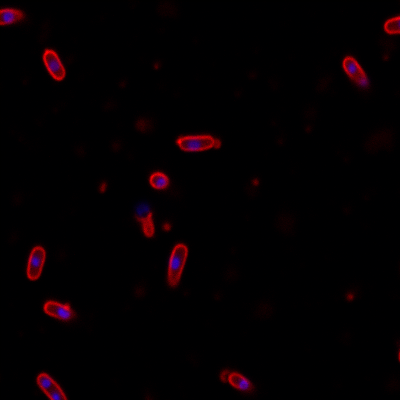CAM: (40, 49, 65, 81), (175, 133, 217, 152), (26, 244, 47, 280)
Oblique: (165, 243, 190, 289), (220, 368, 258, 395), (342, 55, 371, 89), (132, 200, 155, 239), (43, 300, 79, 321), (146, 172, 170, 190)
Vesicle: (158, 220, 173, 234), (343, 290, 356, 303), (97, 180, 109, 193), (250, 175, 261, 188), (150, 60, 160, 71)
